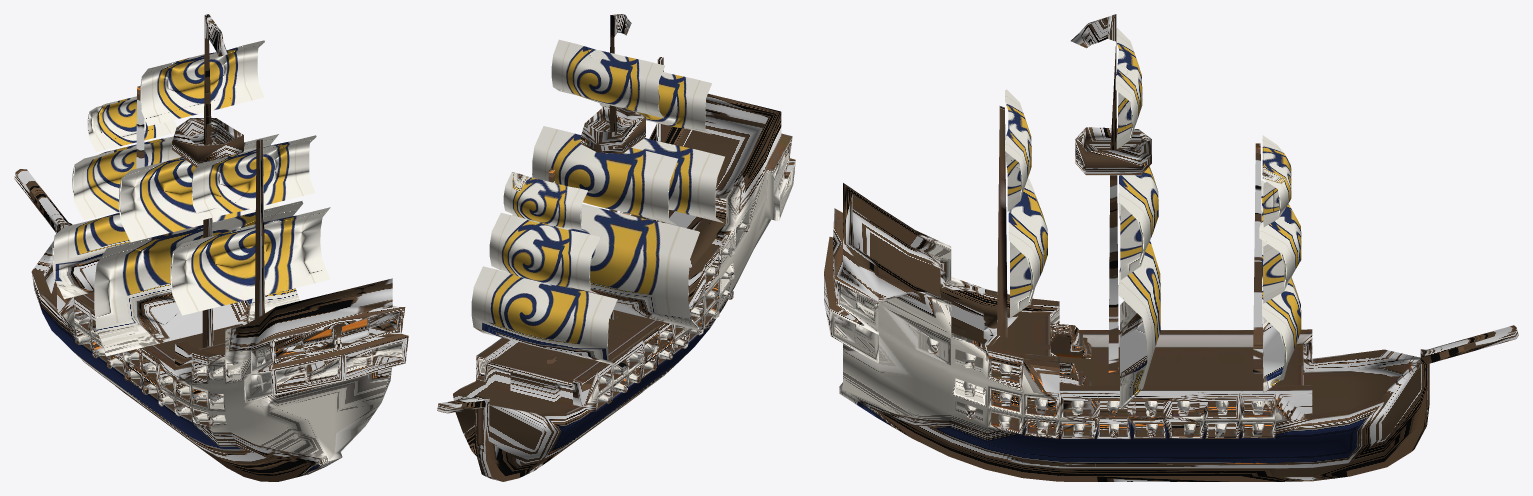
The model's file is brig.glb.
The picture shows the model from 3 angles, left to right: view 1: azimuth 30°, elevation 25°; view 2: azimuth 150°, elevation 25°; view 3: azimuth 270°, elevation 25°; orthographic projection. The views are drawn at different scales.
Parts seen in each view (by area): view 1: Ship__0; view 2: Ship__0; view 3: Ship__0.
Boxes of the visible parts, x1,y1,x2,y2 form: Ship__0: (14,14,408,481); Ship__0: (437,14,795,481); Ship__0: (824,14,1518,481).
Bounding box in the file's own units: 9.78 × 20.6 × 28.
Materials: 1 (1 with a texture image).
